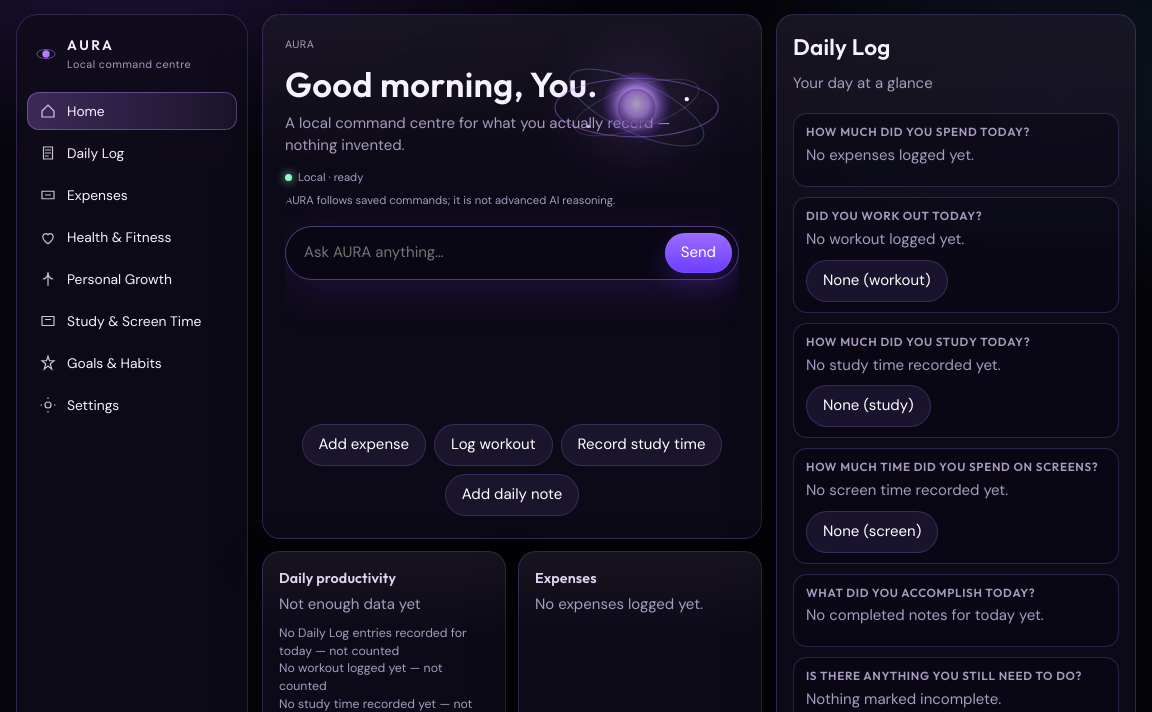
Test: check-in None does not invent a workout record
Click the button "None (workout)" at (877, 281), box [806, 260, 948, 302]
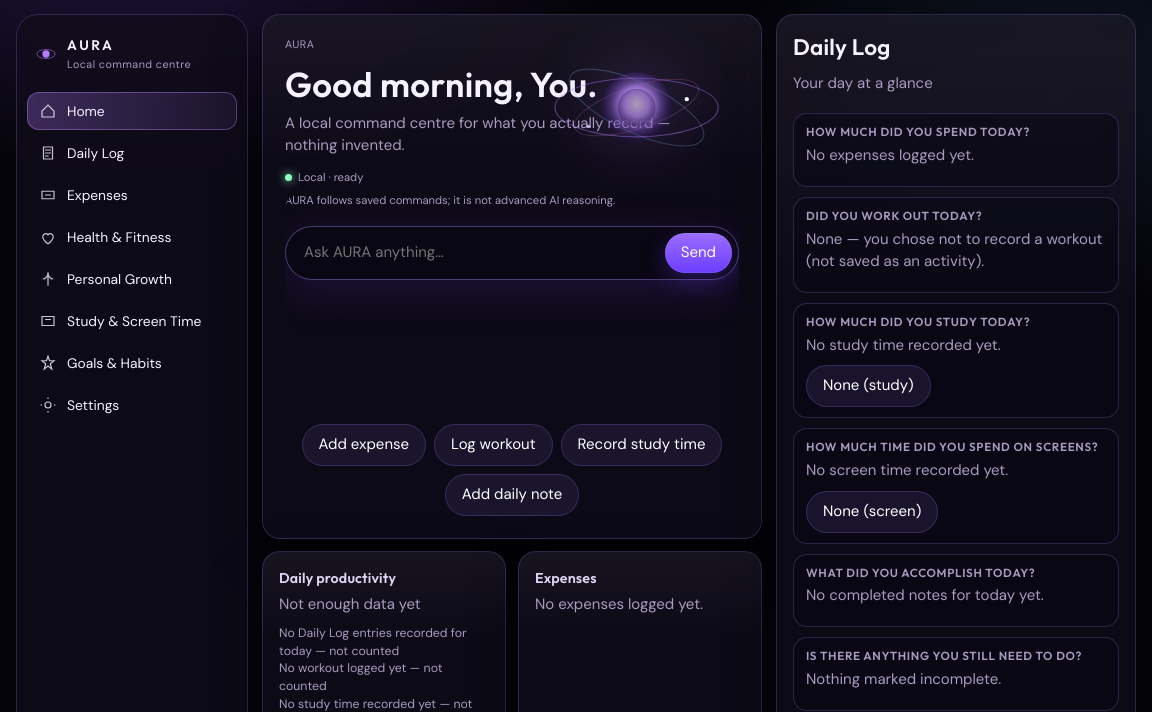
Expected: the text "not saved as an activity" is shown, [806, 229, 1102, 271]
